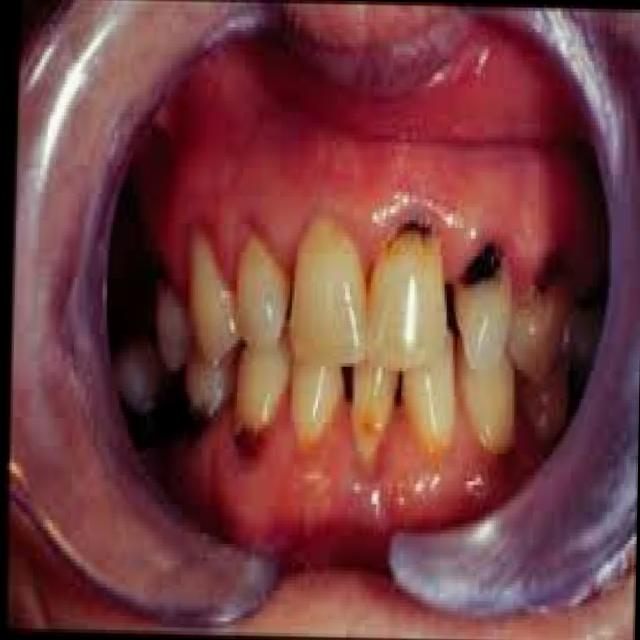caries: (450, 225, 514, 313)
